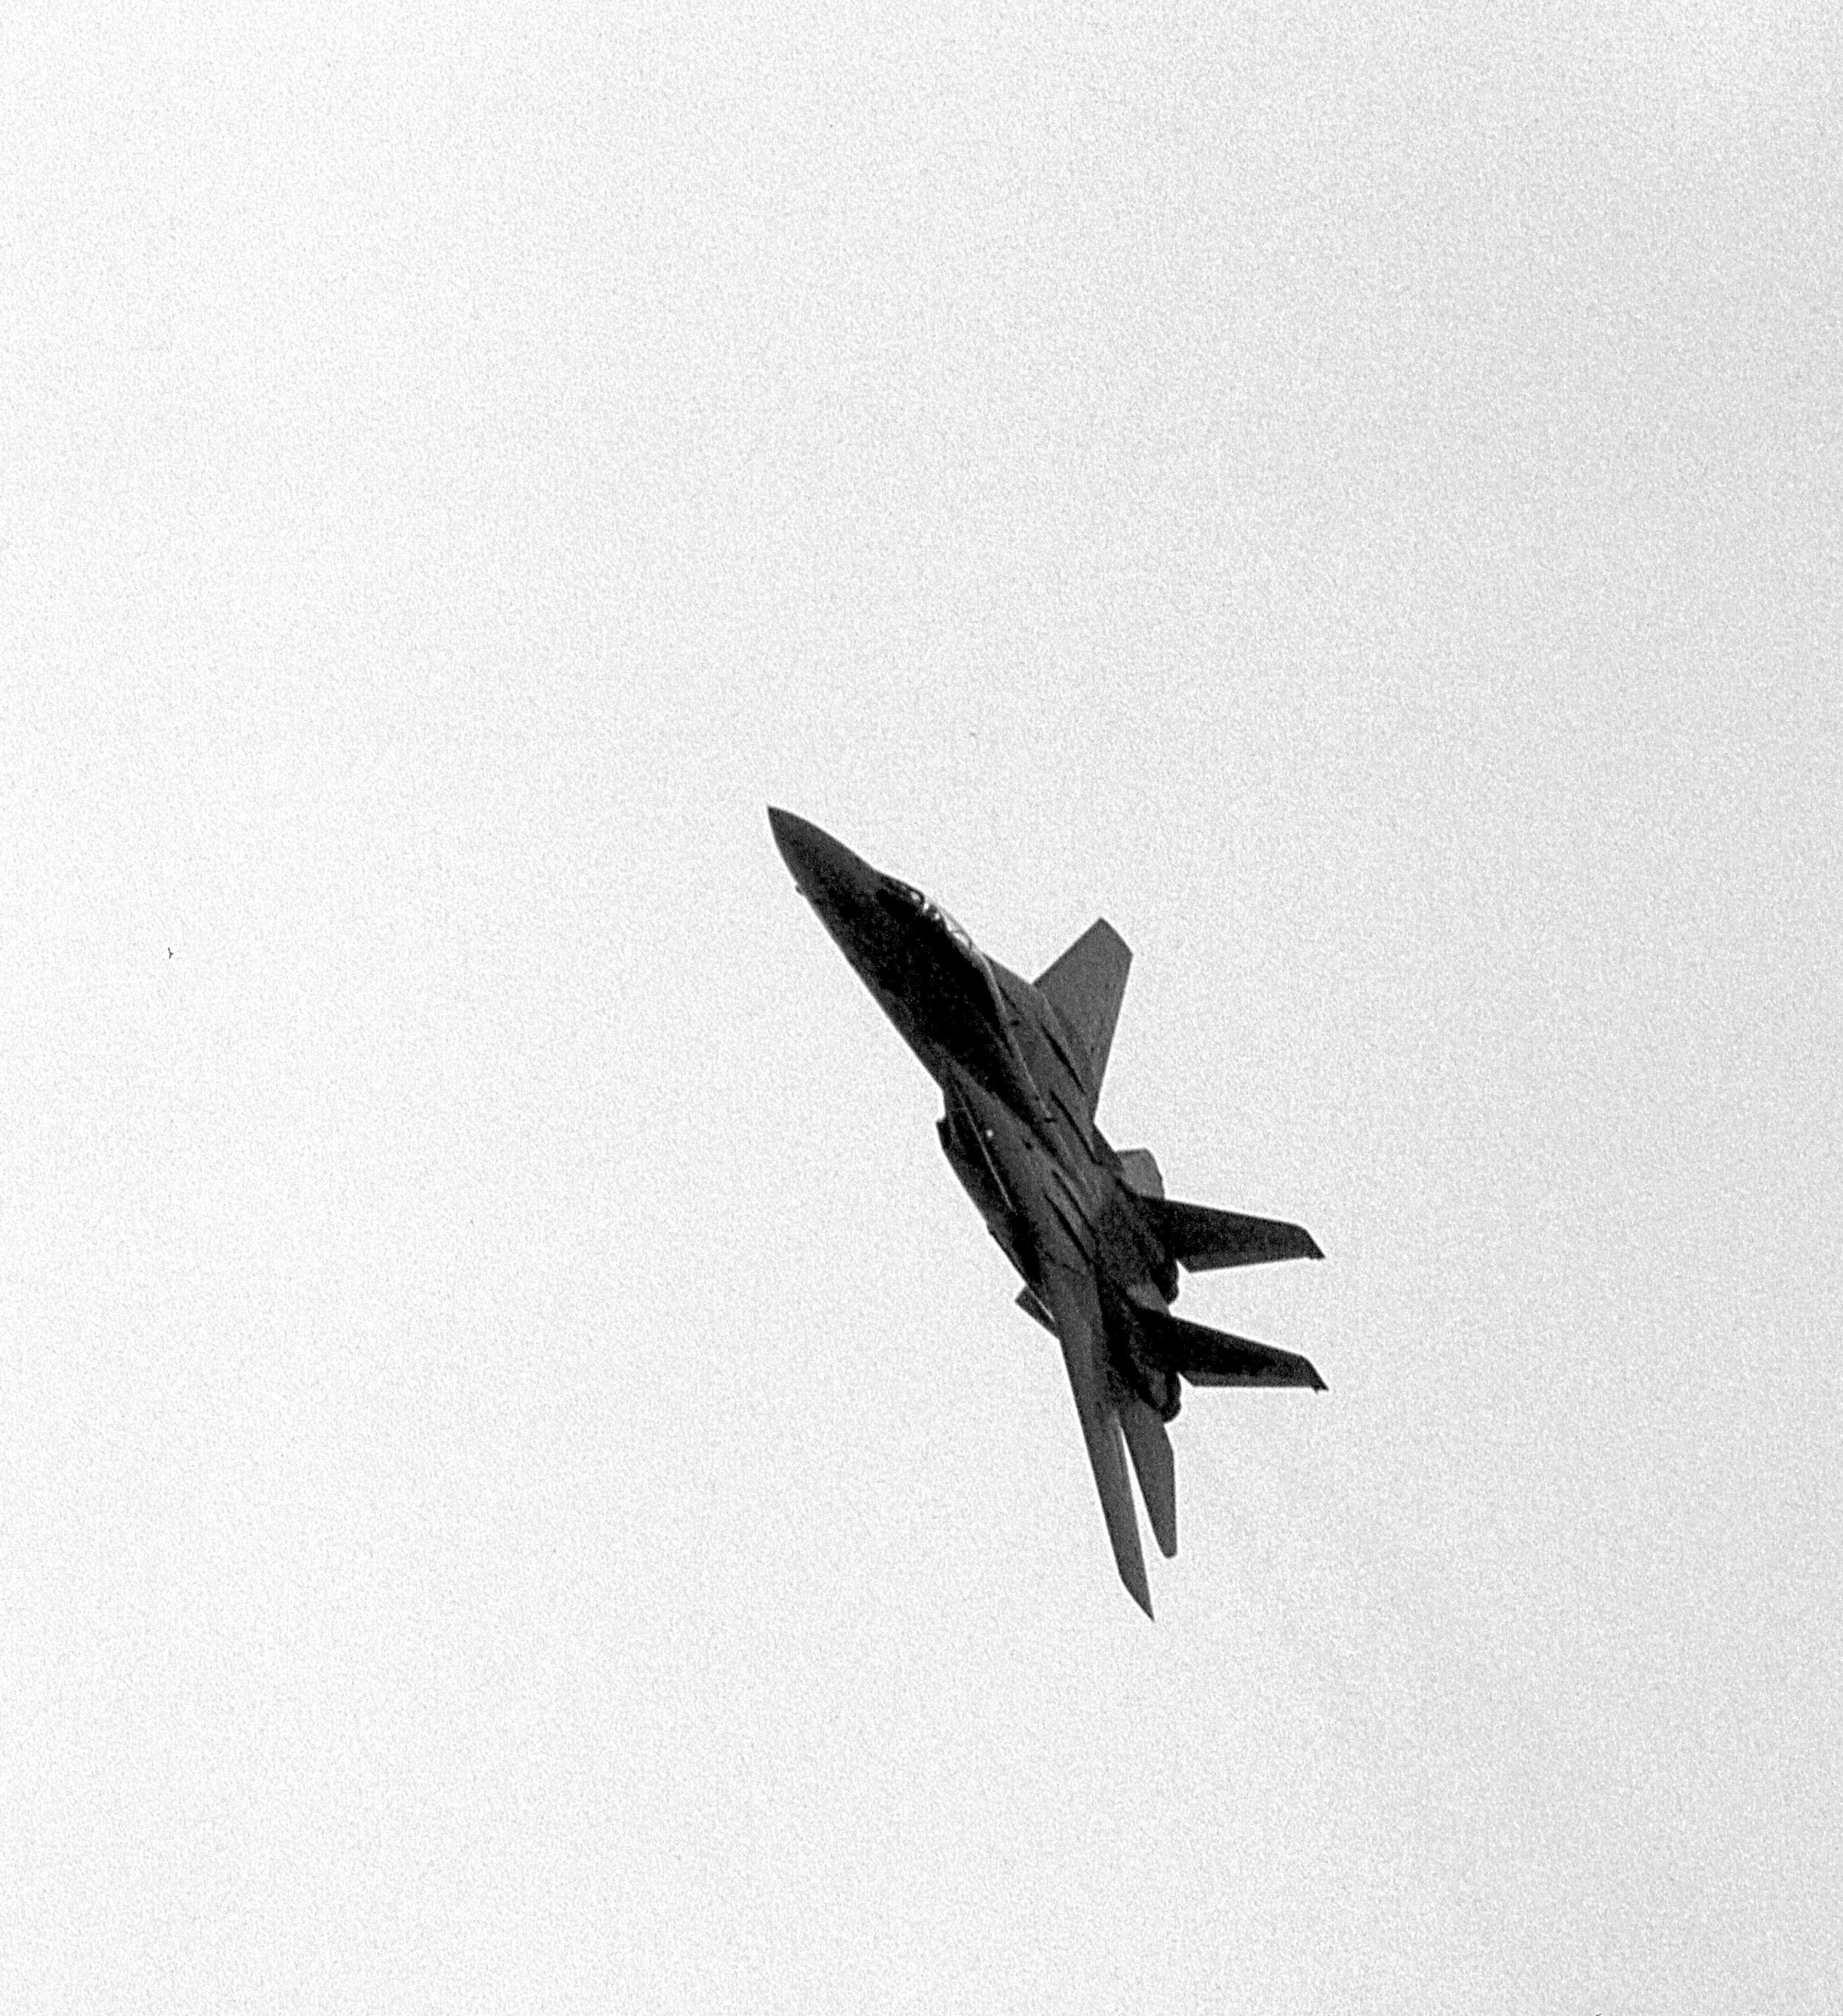F14: (764, 799, 1330, 1624)
